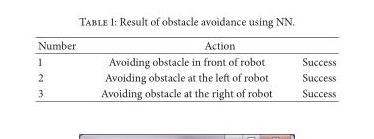table: (37, 37, 335, 100)
table column: (87, 37, 286, 100), (37, 37, 87, 100), (286, 37, 335, 100)
table column header: (37, 37, 335, 68)
table row: (37, 37, 335, 53), (37, 68, 335, 84), (37, 84, 335, 100), (37, 53, 335, 68)
table spanning cell: (87, 37, 335, 53), (37, 37, 87, 68)
